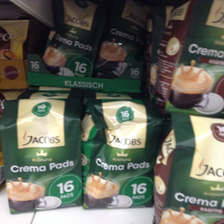coffee: (82, 94, 161, 214), (4, 96, 82, 214), (147, 110, 224, 222), (159, 1, 224, 111), (43, 1, 105, 76), (95, 1, 153, 78)
